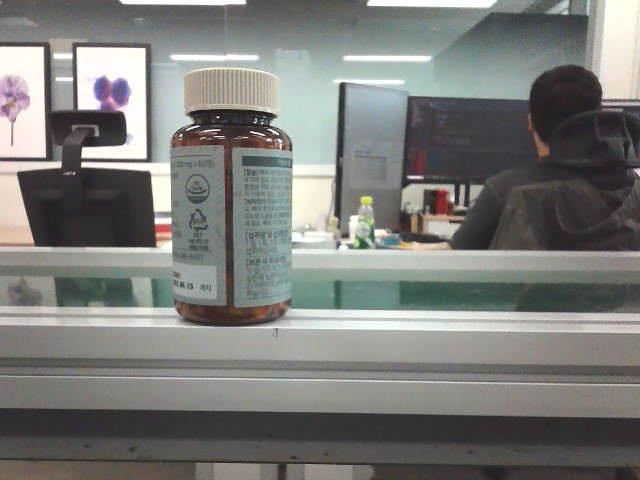labeled: (167, 64, 298, 328)
